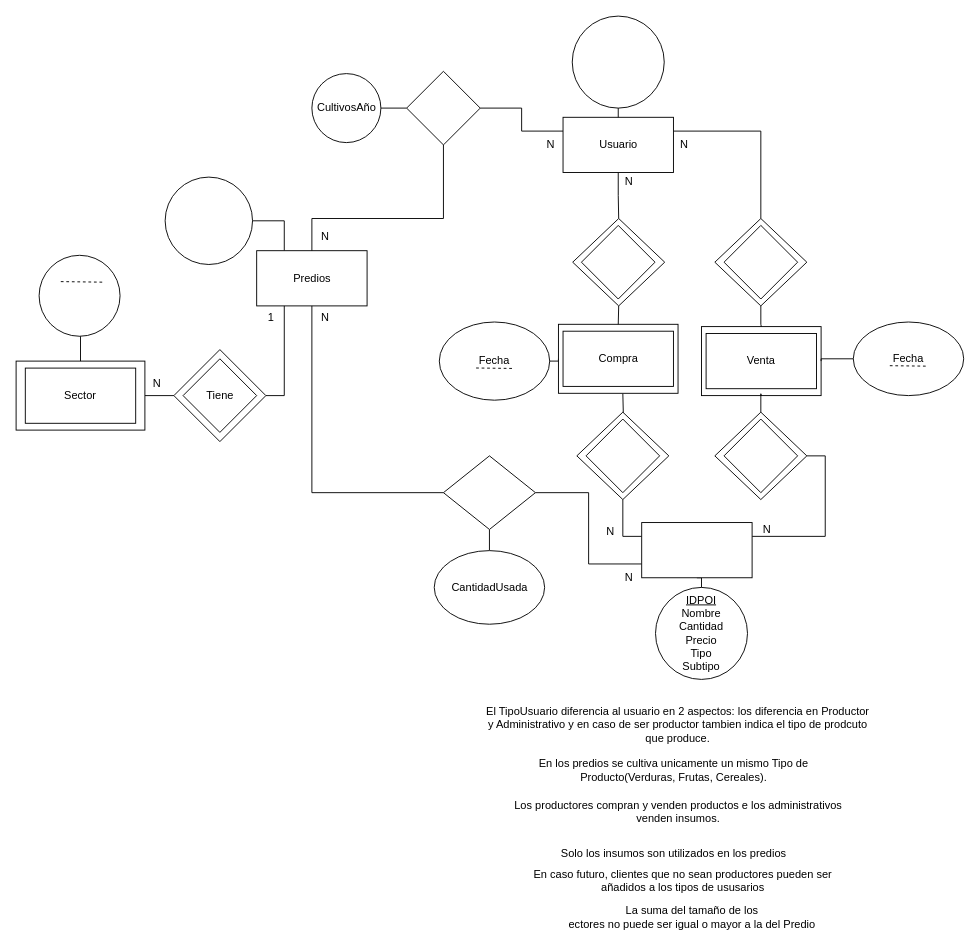
Some shapes in this 980 by 947 pixel diagram are drawn without their labels. The box of each missing label's shape, as (x1, y1, x2, y2) in pixels:
Cedula Contraseña Nombre BajaLogica TipoUsuario: (571, 15, 664, 108)
Gestiona: (406, 70, 480, 145)
IDPredio TamañoPre TipoProducto: (164, 176, 253, 264)
IDSector TamañoSec Producto Activo: (38, 254, 120, 336)
ProductoEInsumos: (641, 522, 752, 578)
Son usados por: (443, 455, 535, 529)
